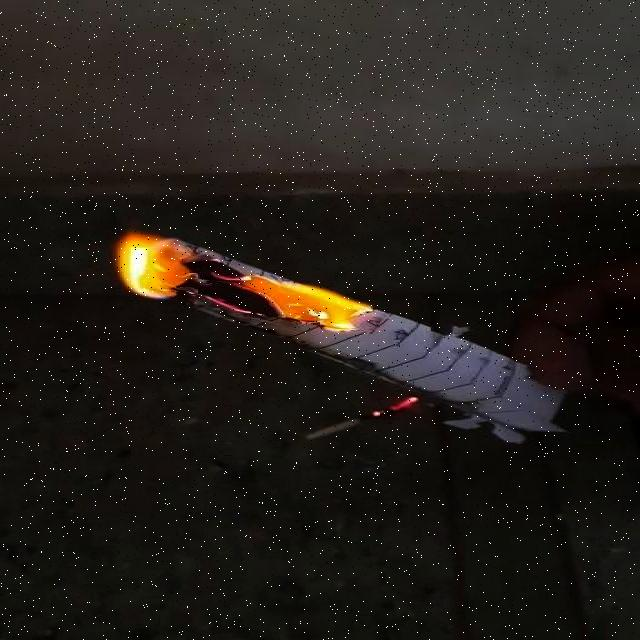fire: (112, 228, 378, 347)
